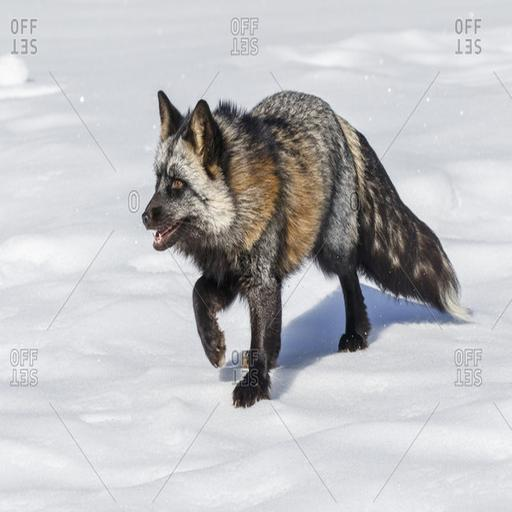Fox: (140, 92, 476, 409)
